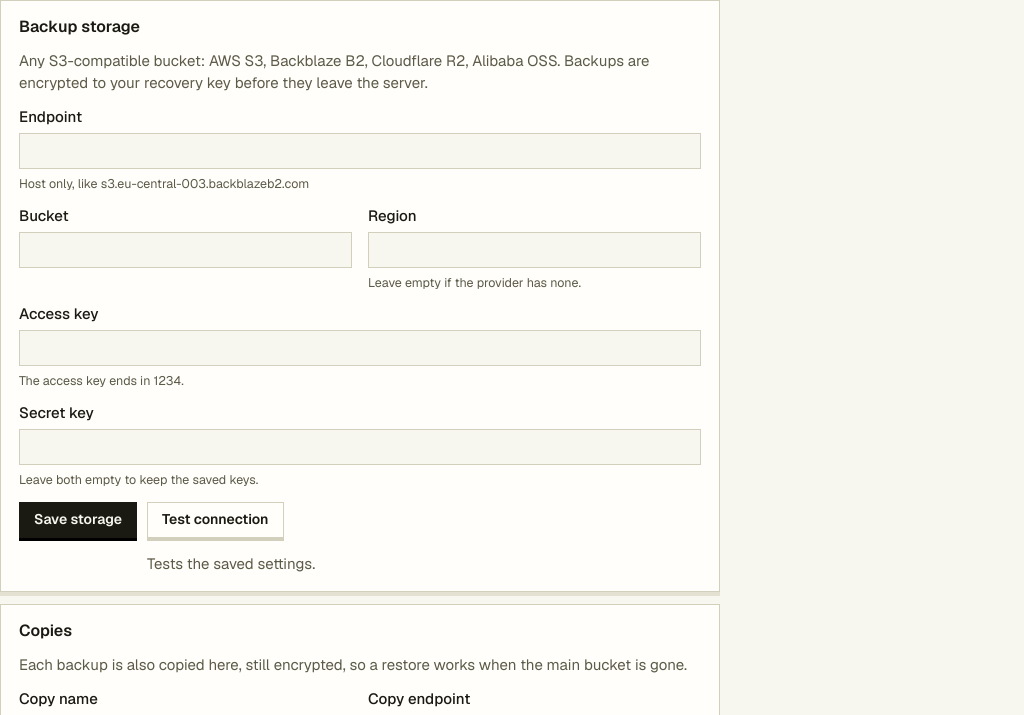
it: Storage test connection › drops an earlier Connected. once new settings are saved
This screenshot has width=1024, height=715.
Click the button "Test connection".
click(215, 520)  # box [147,502,284,538]
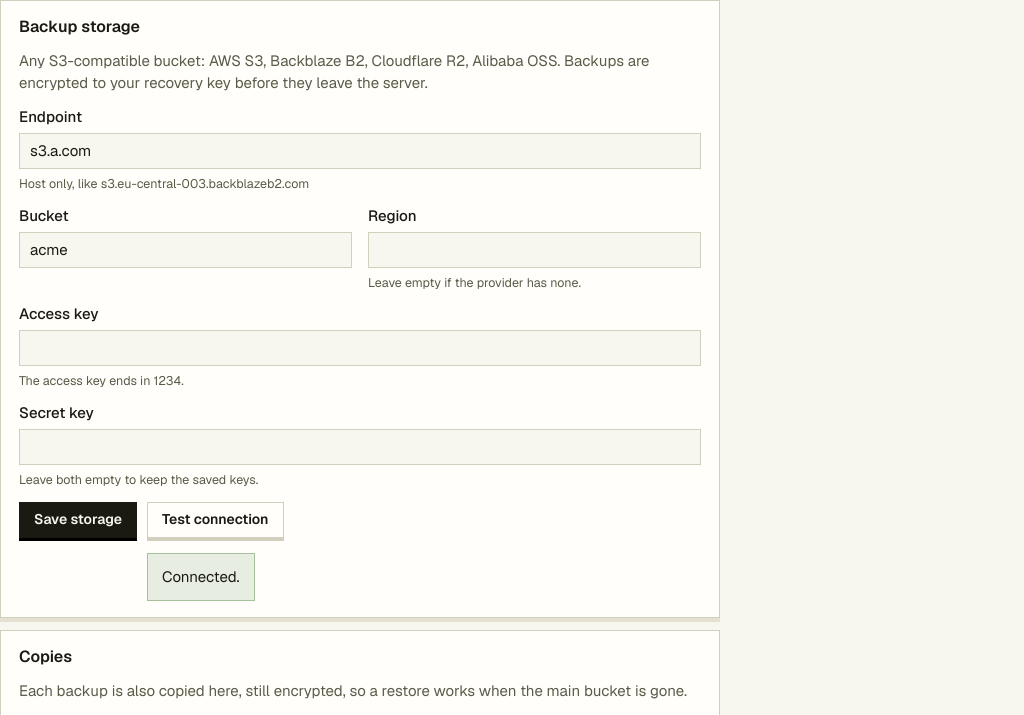
Expected: the text "Connected." is shown, [162,566,240,588]
Click the button "Save storage".
click(78, 520)  # box [19,502,137,538]
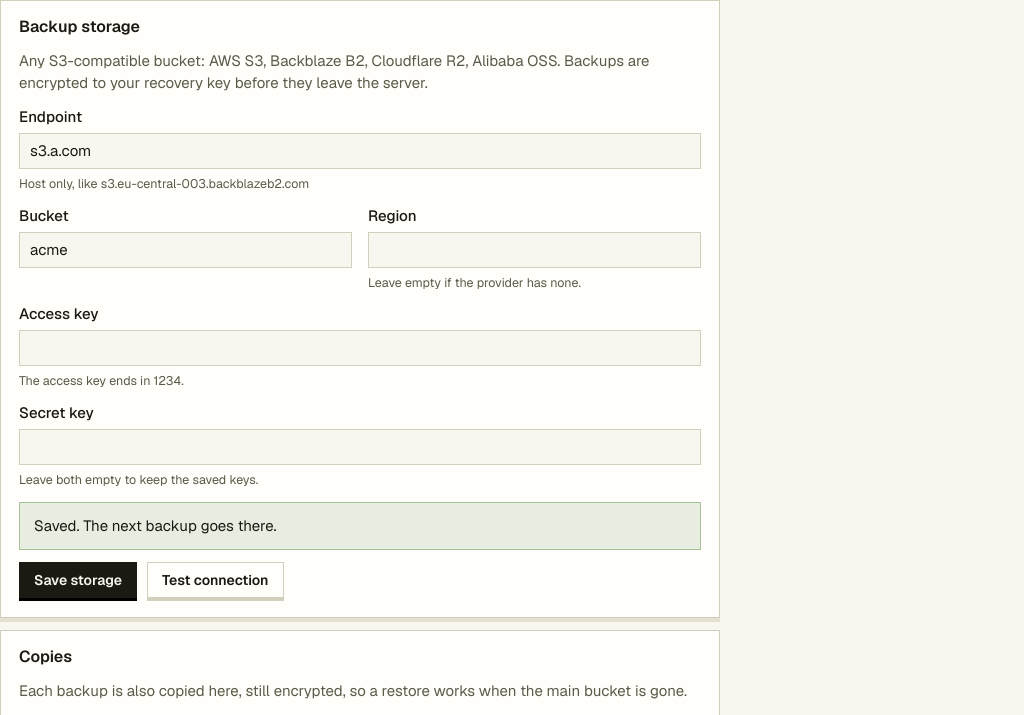
Expected: the text "Saved. The next backup goes there." is shown, [34,516,277,535]
Expected: the text "Connected." is gone
